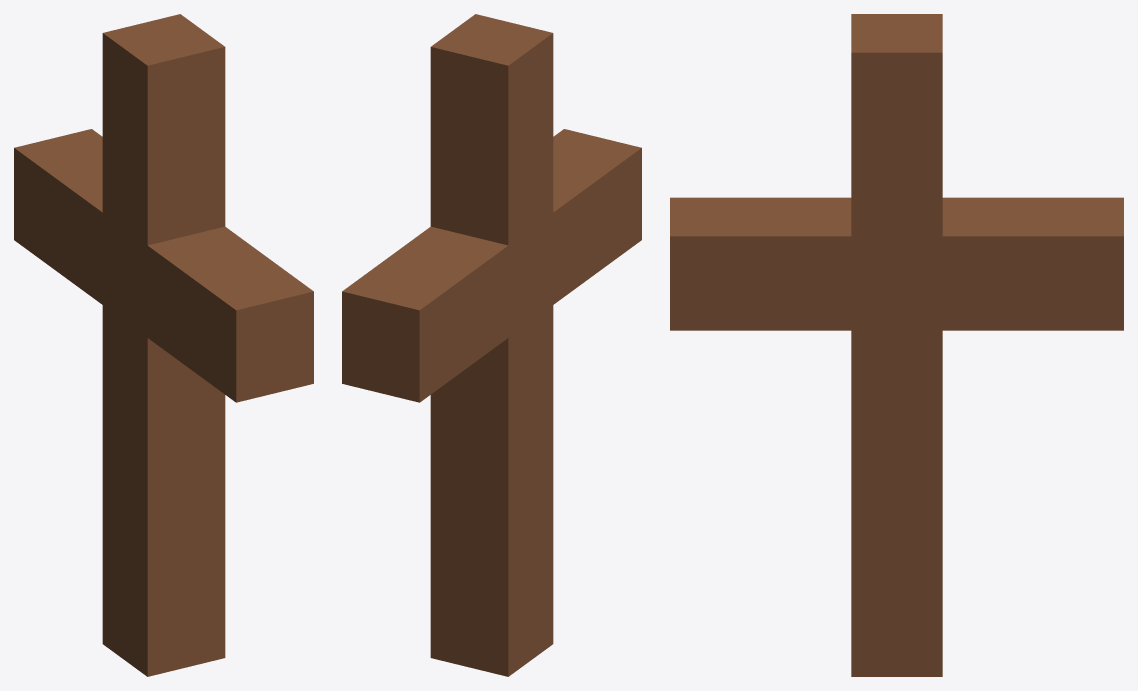
The model's file is Grabkreuz_Einzelobjekt.fbx.
The picture shows the model from 3 angles, left to right: view 1: azimuth 30°, elevation 25°; view 2: azimuth 150°, elevation 25°; view 3: azimuth 270°, elevation 25°; orthographic projection. The views are drawn at different scales.
Parts seen in each view (by area): view 1: Cube.005; view 2: Cube.005; view 3: Cube.005.
Part boxes in pixels (bbox=[...]): Cube.005: bbox=[14, 14, 313, 676]; Cube.005: bbox=[342, 14, 641, 676]; Cube.005: bbox=[670, 14, 1123, 676].
Bounding box in the file's own units: 15.68 × 118 × 77.68.
